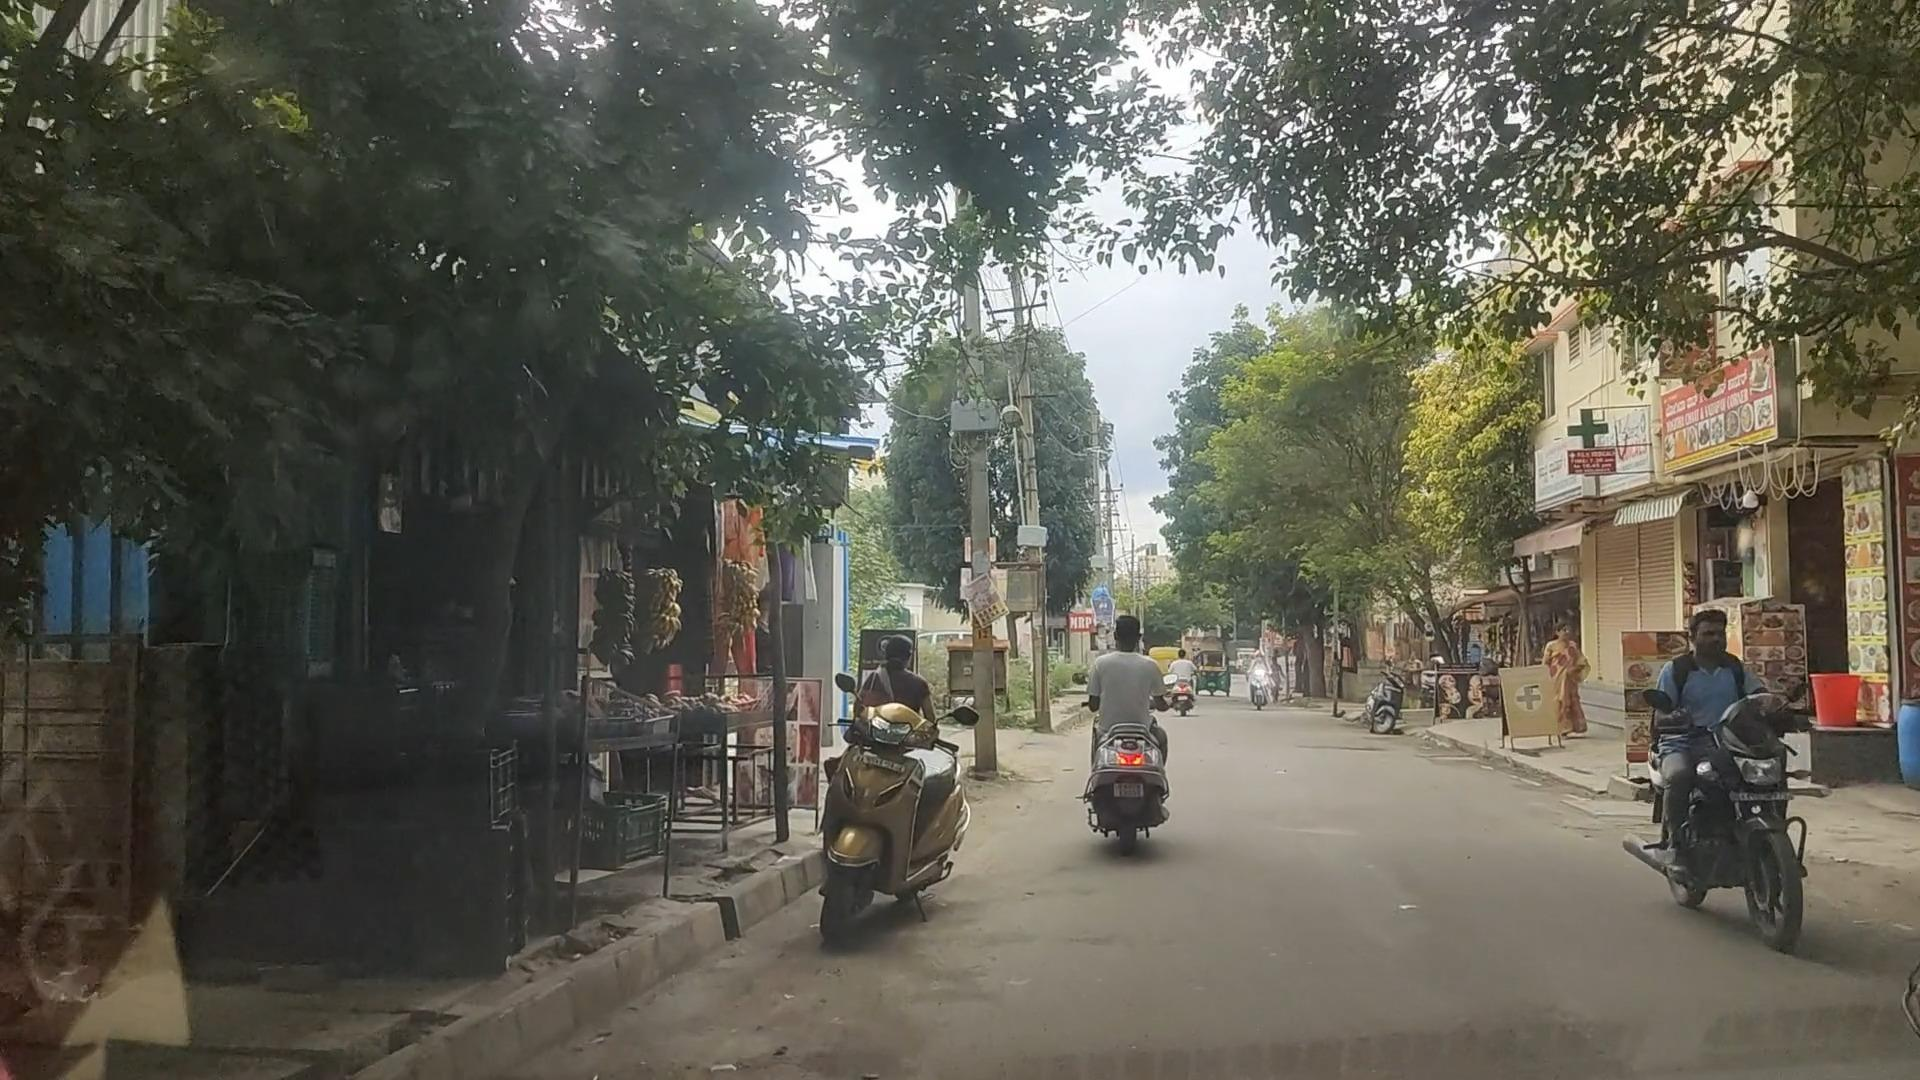LMV: (1607, 585, 1813, 963), (815, 661, 985, 951), (1051, 583, 1187, 866)
